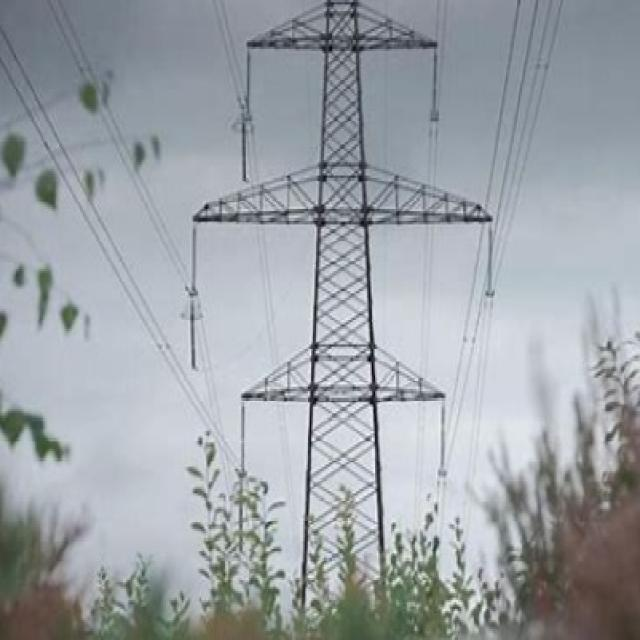utility poles: (184, 377, 482, 634)
